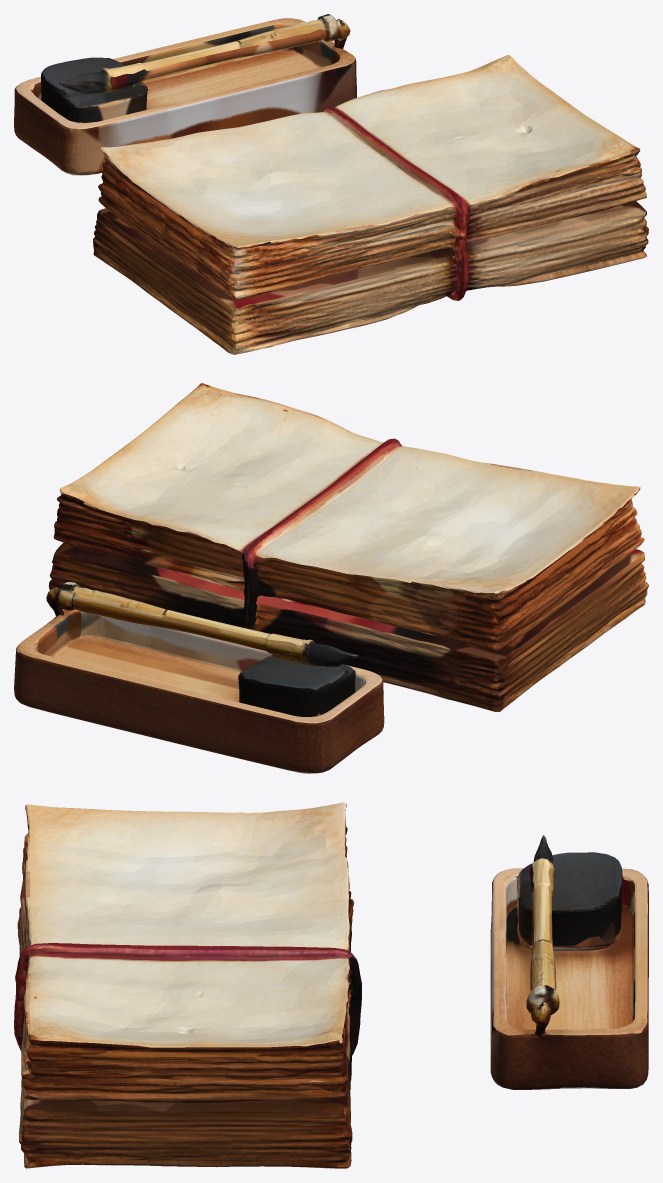
The model's file is traveler_env_coast_ojatara_court_ledger_00001_.glb.
3 views of the same model, one above another, from view 1: azimuth 30°, elevation 25°; view 2: azimuth 150°, elevation 25°; view 3: azimuth 270°, elevation 25° (orthographic). The views are drawn at different scales.
Visible parts, largest first — view 1: temp_mesh.ply; view 2: temp_mesh.ply; view 3: temp_mesh.ply.
Part boxes in pixels (bbox=[...]): temp_mesh.ply: bbox=[14, 14, 648, 354]; temp_mesh.ply: bbox=[14, 383, 648, 773]; temp_mesh.ply: bbox=[14, 802, 648, 1168].
Bounding box in the file's own units: 1.78 × 0.4652 × 1.97.
Materials: 1 (1 with a texture image).
